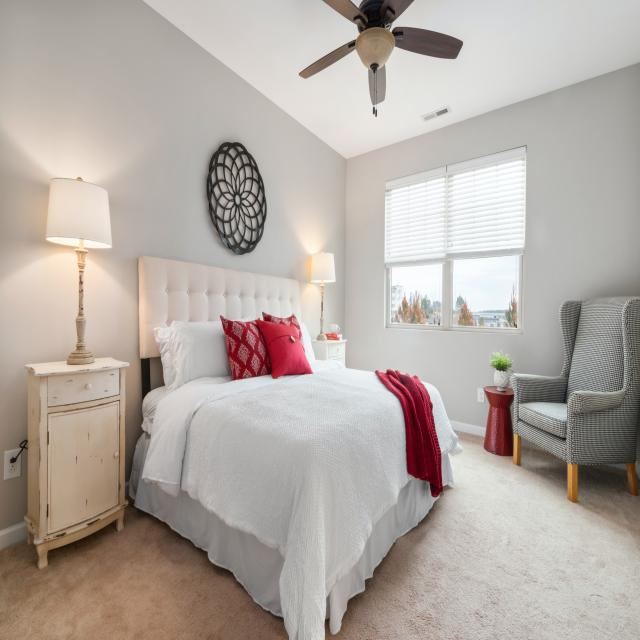floor: (324, 430, 640, 640), (0, 496, 289, 640)
wall: (345, 62, 640, 437), (347, 145, 526, 340)
